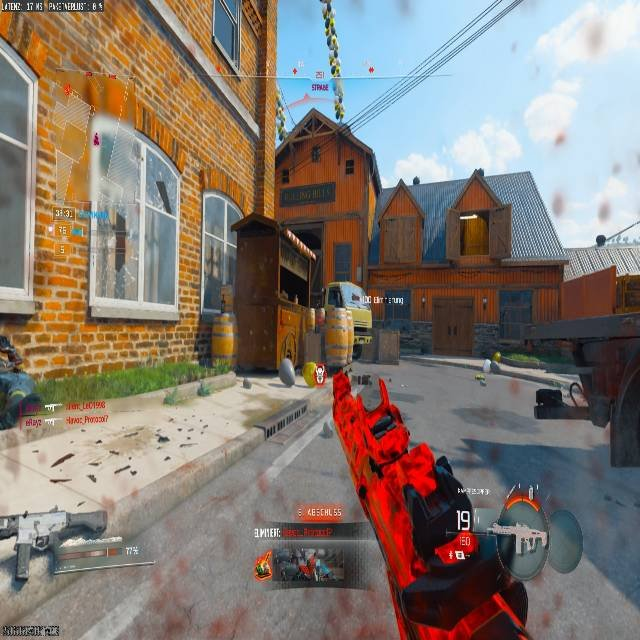head: (0, 334, 12, 355)
player: (0, 333, 43, 441)
